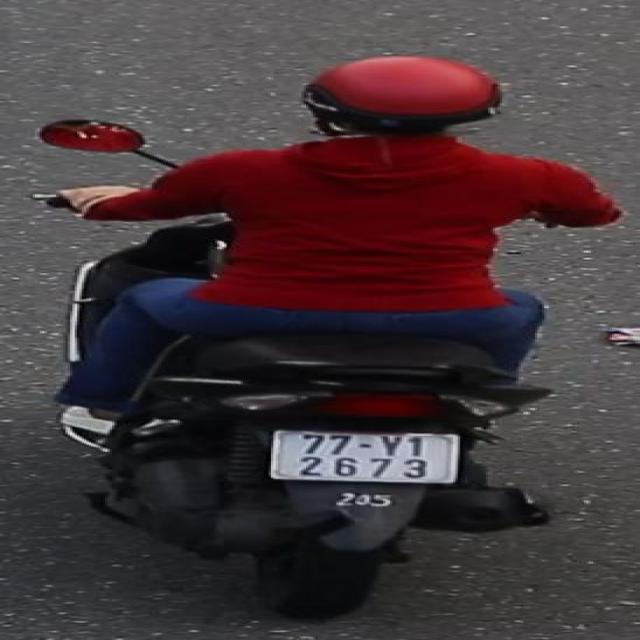LP: (260, 430, 466, 489)
helmet: (292, 50, 512, 150)
